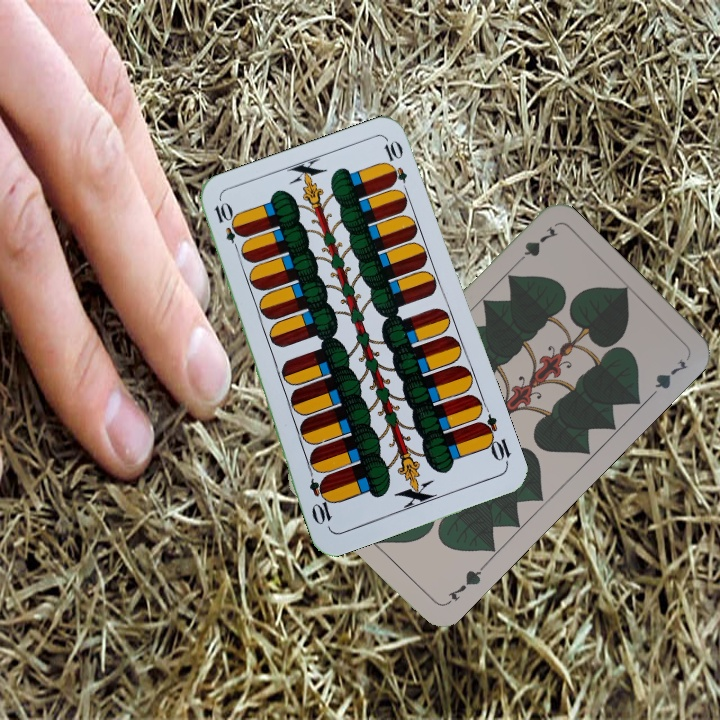E10: (474, 411, 514, 468), (210, 198, 244, 256)
G7: (510, 221, 560, 269), (441, 561, 488, 607)
